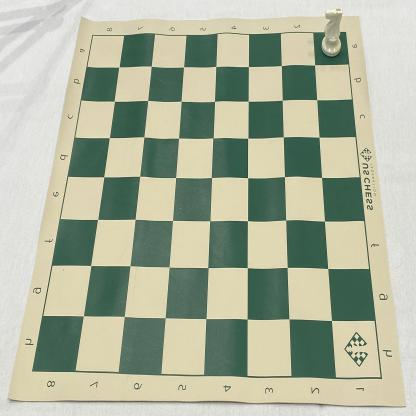white-knight: (320, 5, 342, 58)
